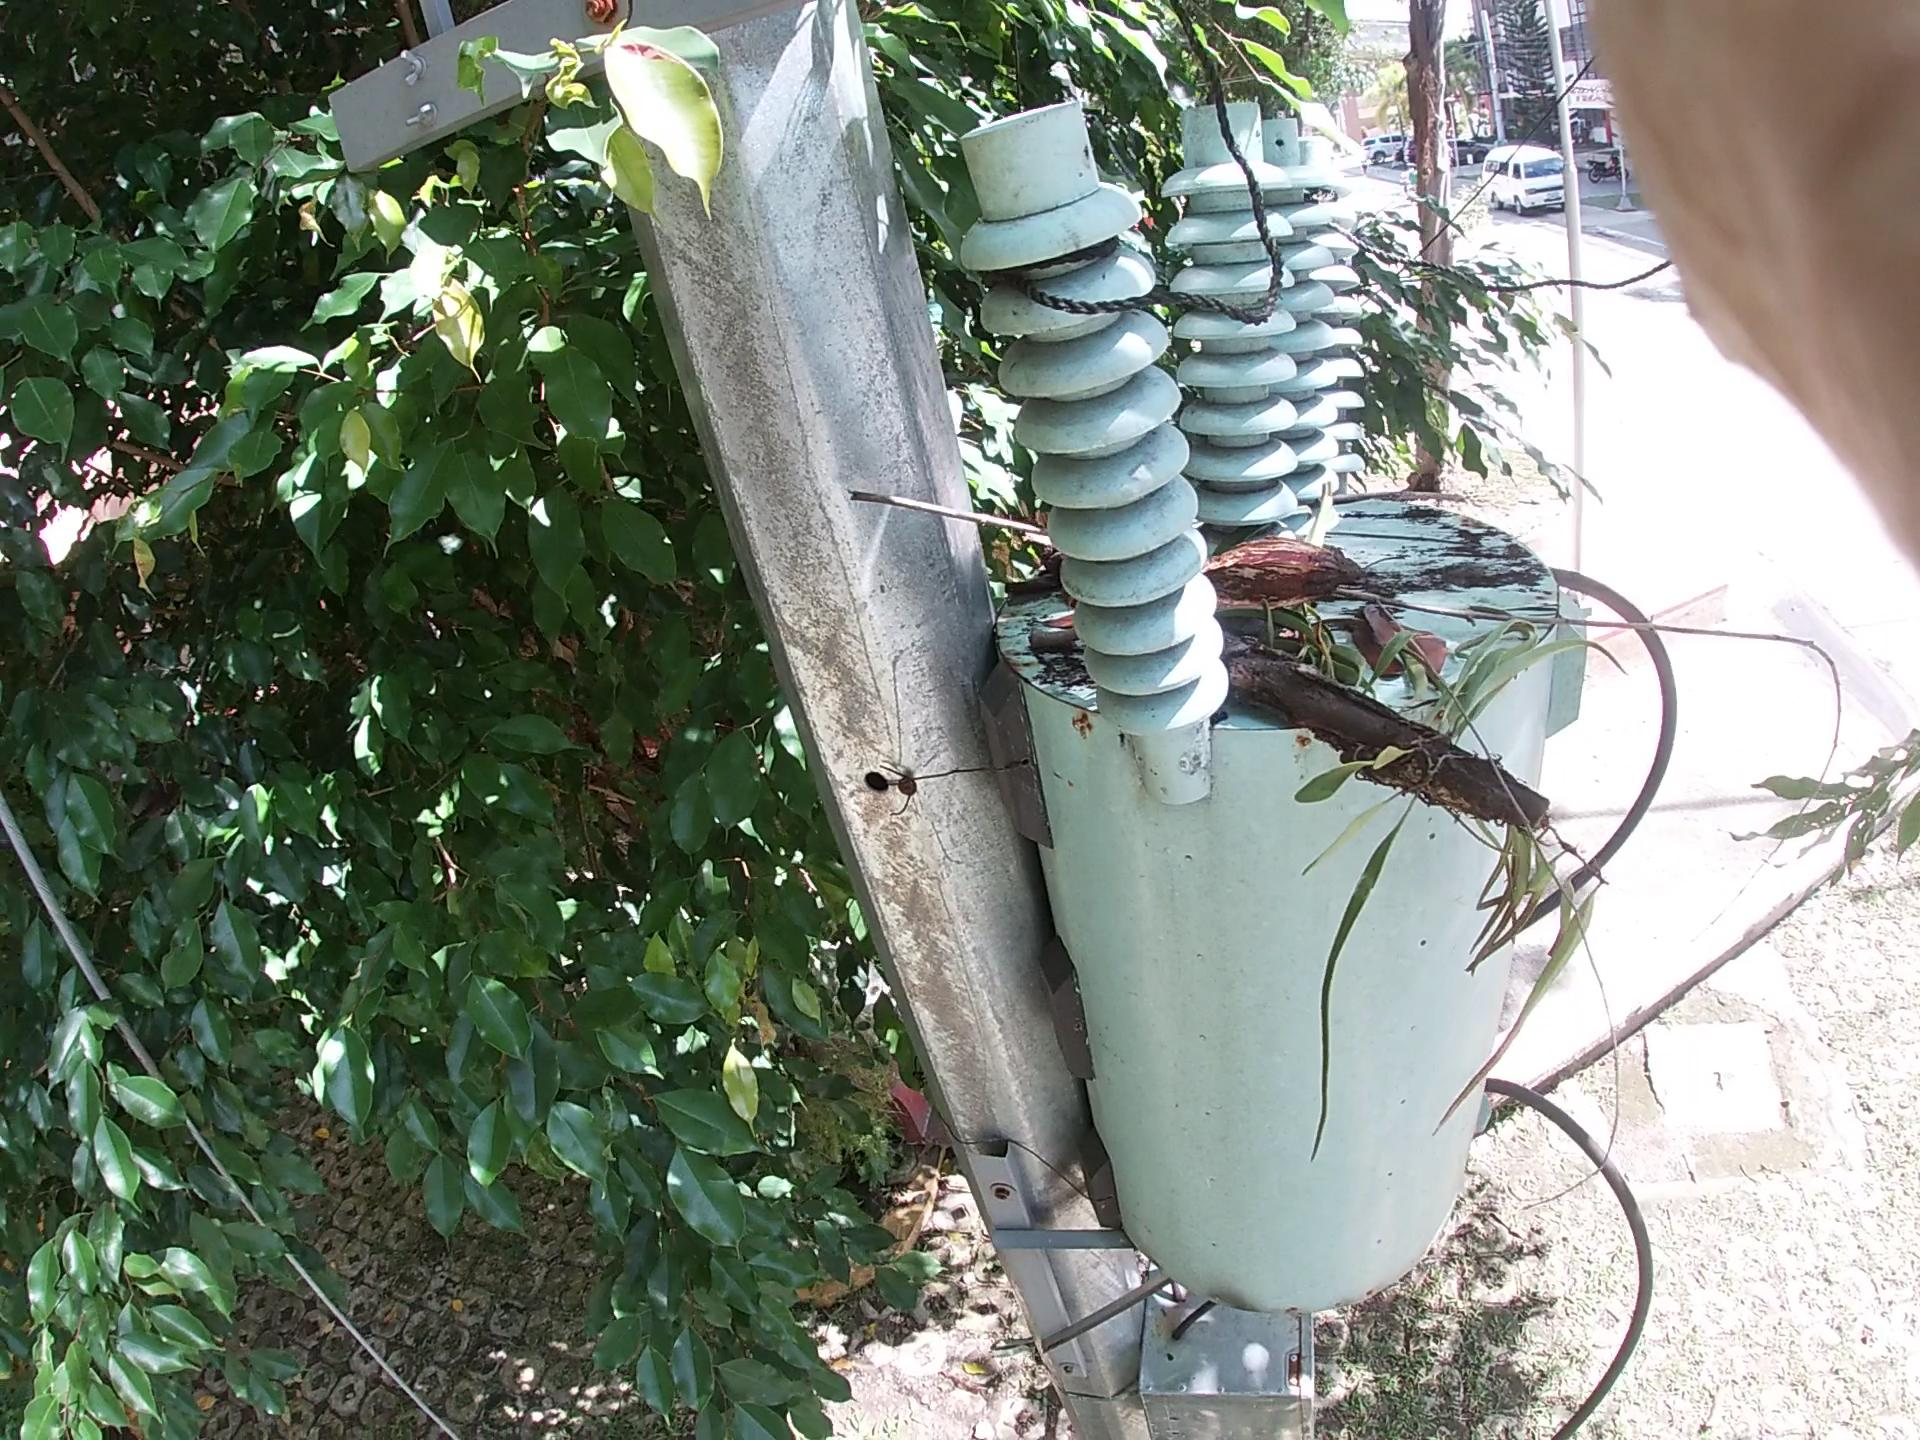branch with leaves: (860, 607, 1920, 867)
leaf: (1037, 585, 1104, 666)
mahogany fruit: (1152, 501, 1412, 650)
tree branch: (1005, 611, 1125, 666)
